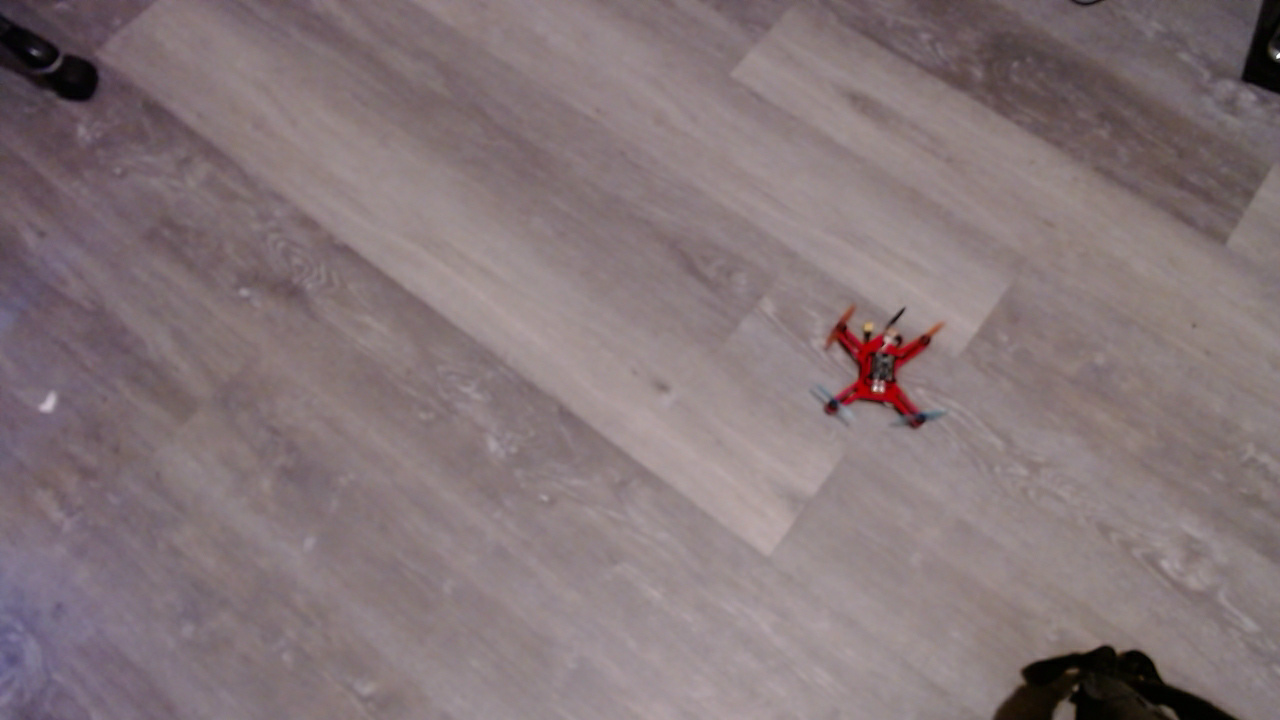crazyflie: (817, 297, 968, 447)
